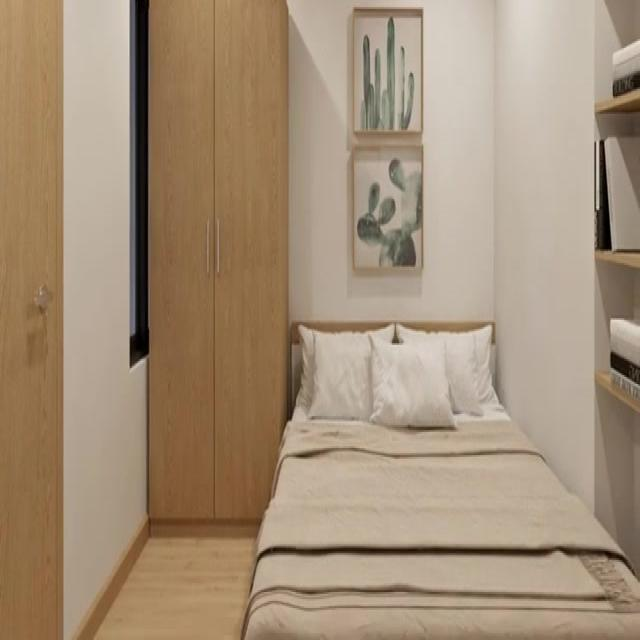obstacle: (240, 318, 639, 638), (146, 0, 288, 526)
